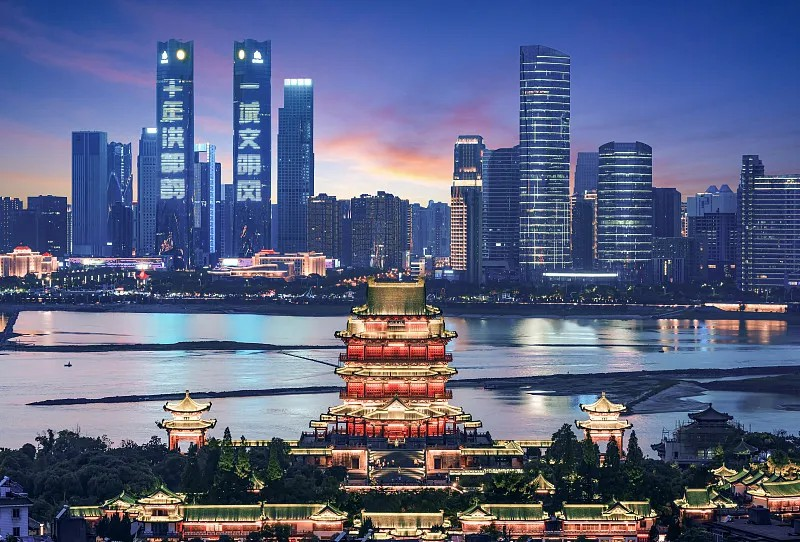Teng: (309, 279, 481, 437)
